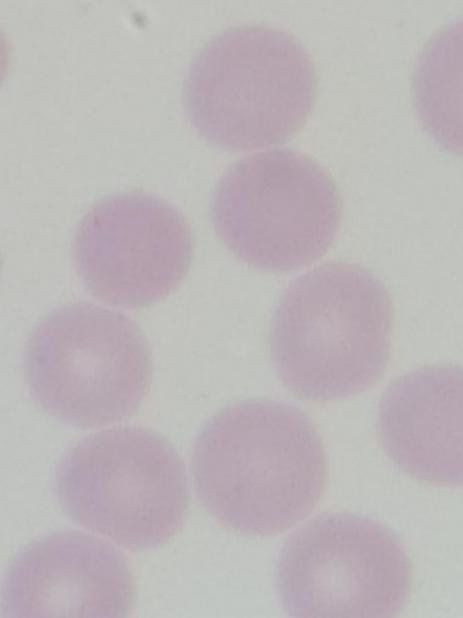Uninfected: (193, 399, 325, 534), (177, 24, 316, 152), (25, 301, 156, 431), (272, 266, 394, 401), (55, 429, 184, 553), (207, 154, 336, 271), (275, 511, 414, 618), (72, 192, 191, 310), (0, 531, 142, 618), (380, 367, 462, 487)
